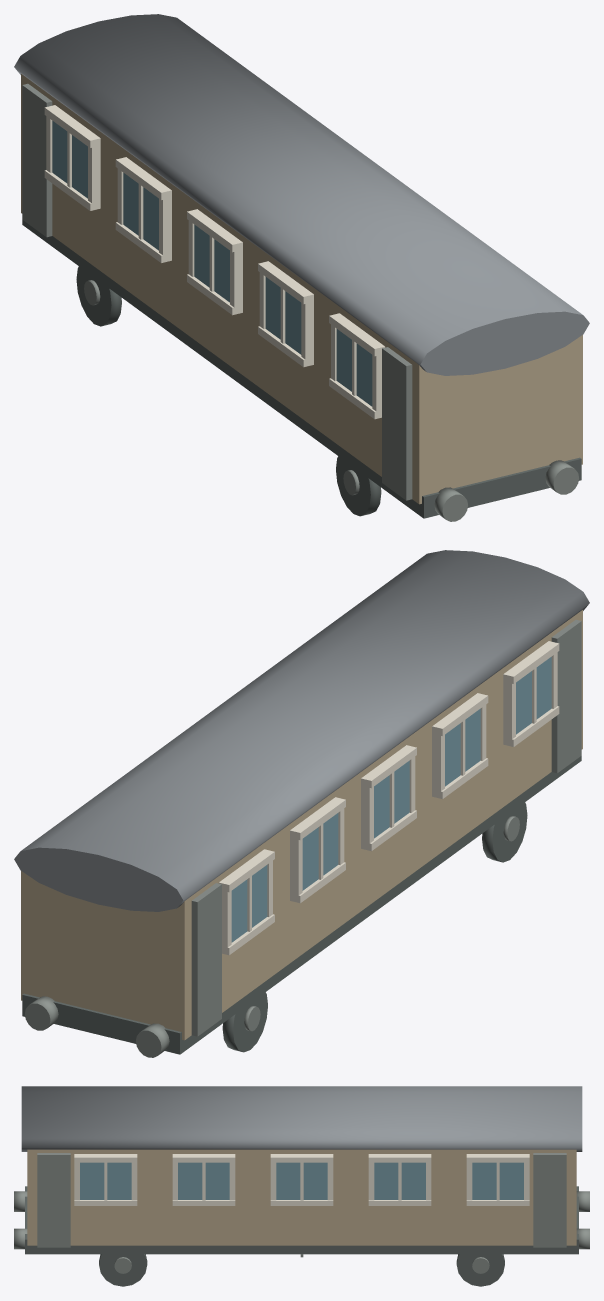
Rendered from tyne-coach_lod0.glb.
The picture shows the model from 3 angles, top to bottom: view 1: azimuth 30°, elevation 25°; view 2: azimuth 150°, elevation 25°; view 3: azimuth 270°, elevation 25°; orthographic projection. The views are drawn at different scales.
Visible parts, largest first — view 1: RF_CoachRoof, RF_CoachBody, RF_RoofLowerMask, RF_Chassis, RF_CarDoor.001, RF_CarDoor.002, RF_Window.001, RF_Window.002, RF_Window.004, RF_Window.003, RF_Window.005, RF_Wheel.003 (+12 smaller); view 2: RF_CoachRoof, RF_CoachBody, RF_RoofLowerMask, RF_Chassis, RF_CarDoor.002, RF_CarDoor.001, RF_Window.004, RF_Window.005, RF_Window.002, RF_Window.001, RF_Window.003, RF_Wheel.001 (+13 smaller); view 3: RF_CoachRoof, RF_CoachBody, RF_Chassis, RF_CarDoor.003, RF_CarDoor, RF_RoofLowerMask, RF_Window.006, RF_Window, RF_Window.007, RF_Window.008, RF_Window.009, RF_Wheel.002 (+11 smaller).
Boxes of the visible parts, box(x1,y1,x2,y2) form: RF_CoachRoof: box(14, 14, 589, 375); RF_CoachBody: box(21, 74, 582, 504); RF_RoofLowerMask: box(21, 74, 582, 442); RF_Chassis: box(22, 220, 581, 518); RF_CarDoor.001: box(382, 347, 412, 500); RF_CarDoor.002: box(22, 83, 52, 237); RF_Window.001: box(336, 329, 372, 406); RF_Window.002: box(265, 277, 301, 354); RF_Window.004: box(123, 172, 158, 250); RF_Window.003: box(194, 224, 229, 302); RF_Window.005: box(52, 121, 87, 198); RF_Wheel.003: box(76, 266, 121, 326); RF_CoachRoof: box(14, 550, 589, 911); RF_CoachBody: box(21, 610, 582, 1040); RF_RoofLowerMask: box(21, 610, 582, 978); RF_Chassis: box(22, 756, 581, 1054); RF_CarDoor.002: box(191, 883, 221, 1036); RF_CarDoor.001: box(551, 619, 581, 773); RF_Window.004: box(302, 813, 338, 890); RF_Window.005: box(231, 865, 267, 942); RF_Window.002: box(445, 708, 480, 786); RF_Window.001: box(516, 657, 551, 734); RF_Window.003: box(374, 760, 409, 838); RF_Wheel.001: box(482, 802, 527, 862); RF_CoachRoof: box(21, 1086, 582, 1151); RF_CoachBody: box(27, 1149, 576, 1245); RF_Chassis: box(25, 1186, 578, 1254); RF_CarDoor.003: box(37, 1153, 70, 1247); RF_CarDoor: box(533, 1153, 566, 1247); RF_RoofLowerMask: box(27, 1149, 576, 1203); RF_Window.006: box(80, 1162, 131, 1199); RF_Window: box(472, 1162, 523, 1199); RF_Window.007: box(178, 1162, 229, 1199); RF_Window.008: box(276, 1162, 327, 1199); RF_Window.009: box(374, 1162, 425, 1199); RF_Wheel.002: box(99, 1254, 147, 1286).
Bounding box in the file's own units: 3.16 × 3.76 × 12.38.
